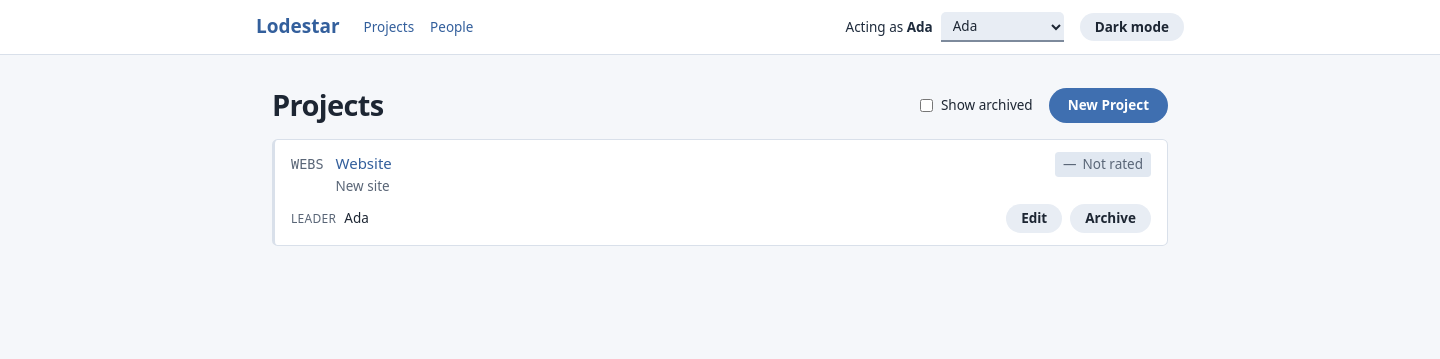
Projects page › lists Projects, hiding archived ones unless asked
This screenshot has width=1440, height=359.
Click the checkbox labelled "Show archived" at (926, 105), box [920,99,933,112]
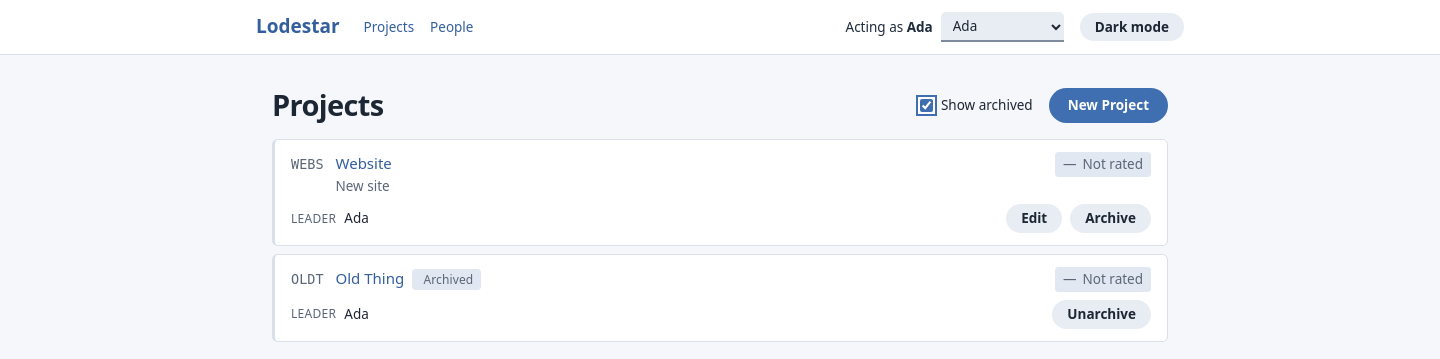
Expected: the number of list items is 2, [272,139,1168,246]; [272,254,1168,342]
Expected: the list item "OLDT Old Thing Archived — Not rated Leader Ada Unarchive" is shown, [272,254,1168,342]
